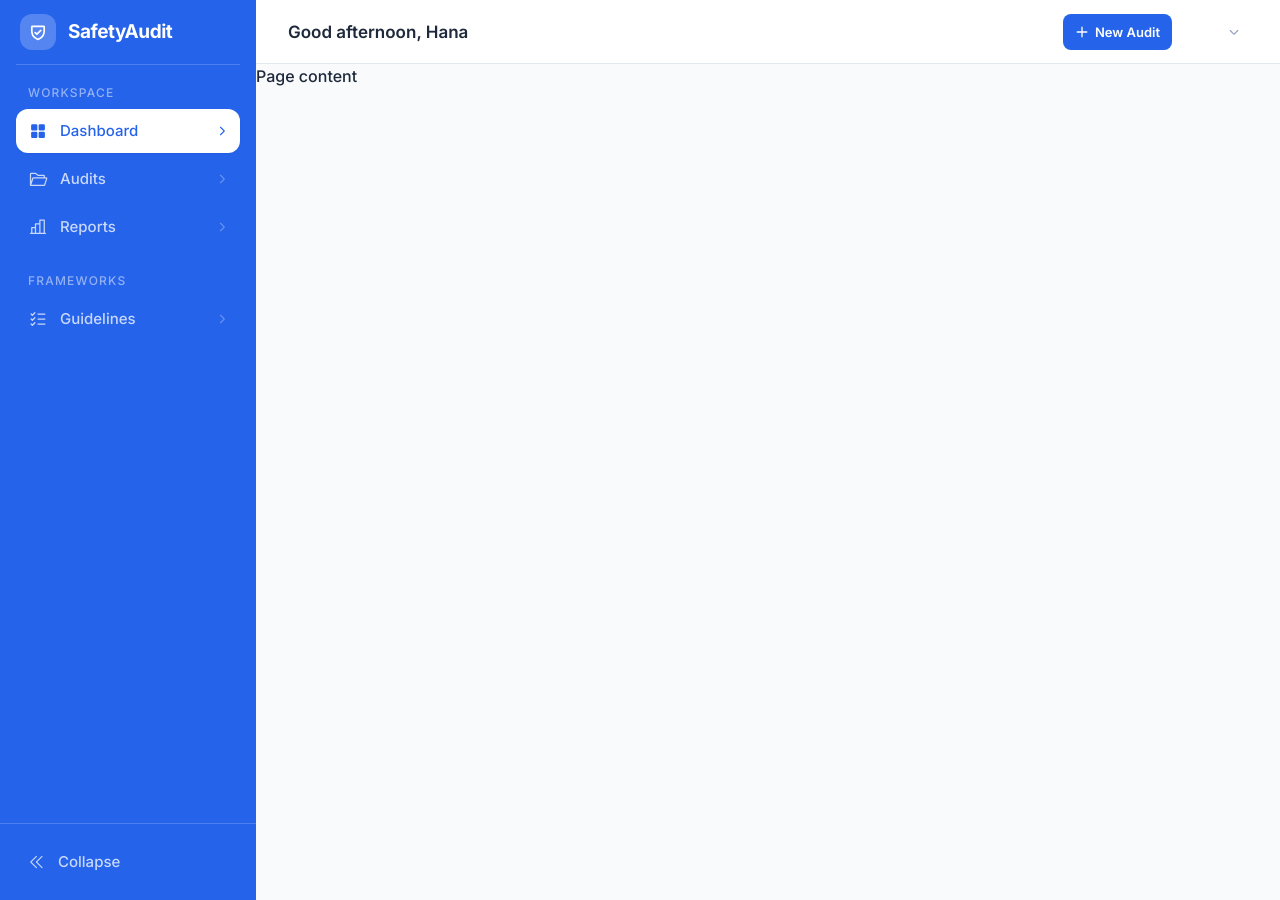
Test: Layout › on desktop, collapses the sidebar from its button and with Ctrl+B
Later steps or results of the test are not shown.
Click the button with aria-label "Collapse sidebar": [128, 862] box 16,840 -> 240,884
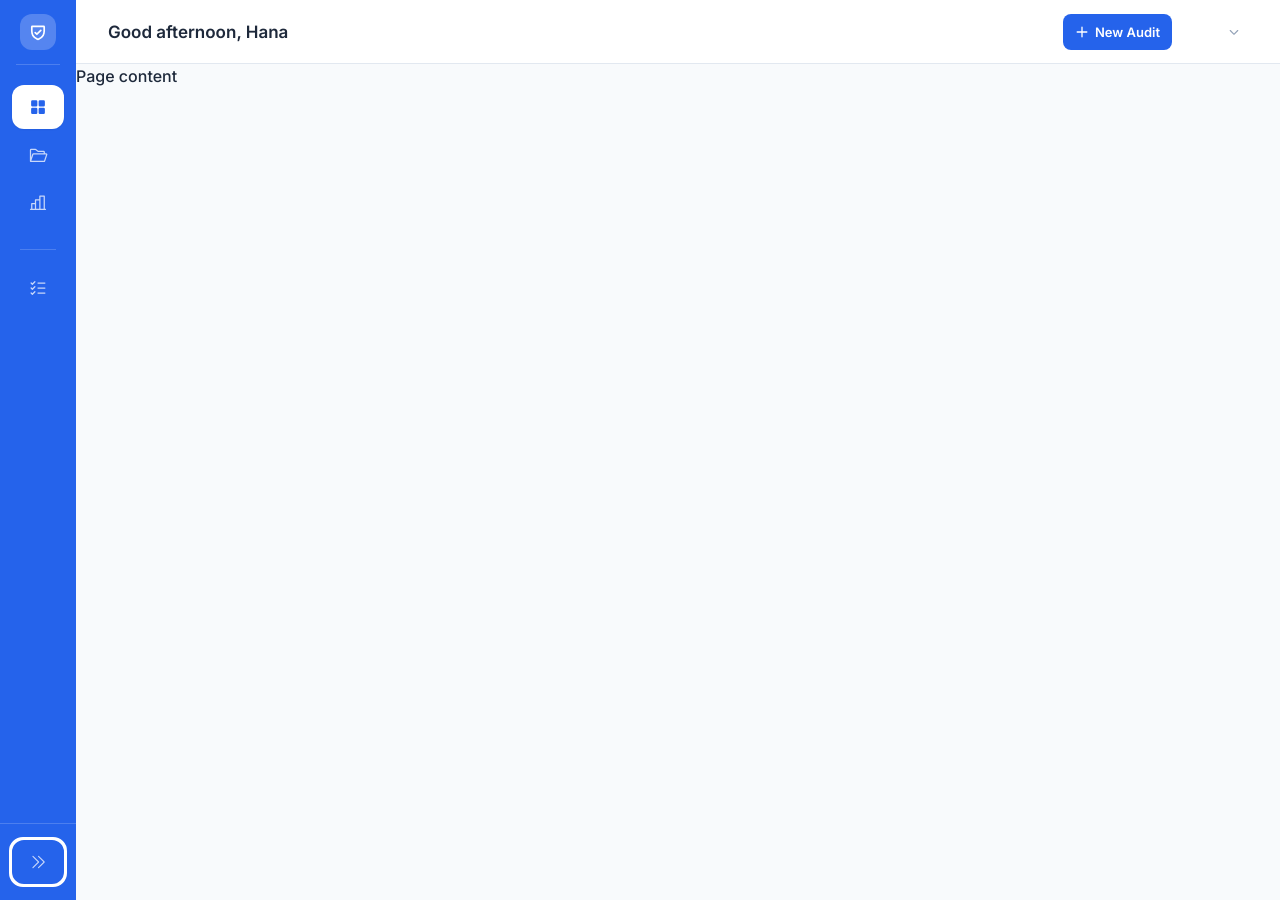
Check: the button named "Expand sidebar" is shown, box 12,840 -> 64,884
